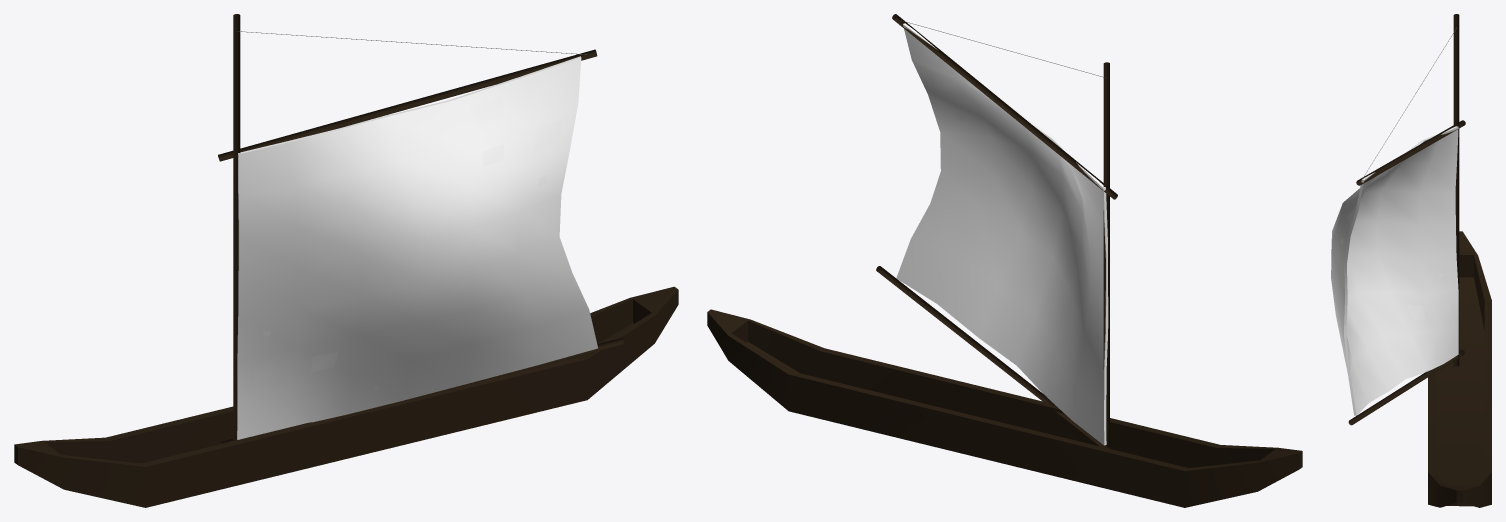
Rendered from pirogue2.gltf.
3 views of the same model, side by side, from view 1: azimuth 30°, elevation 25°; view 2: azimuth 150°, elevation 25°; view 3: azimuth 270°, elevation 25° (orthographic). The views are drawn at different scales.
Visible parts, largest first — view 1: Cube.001; view 2: Cube.001; view 3: Cube.001.
Part boxes in pixels (x1,y1,x2,y2): Cube.001: (14, 14, 678, 507); Cube.001: (707, 14, 1302, 507); Cube.001: (1331, 14, 1491, 507).
Bounding box in the file's own units: 8.07 × 5.29 × 2.14.
